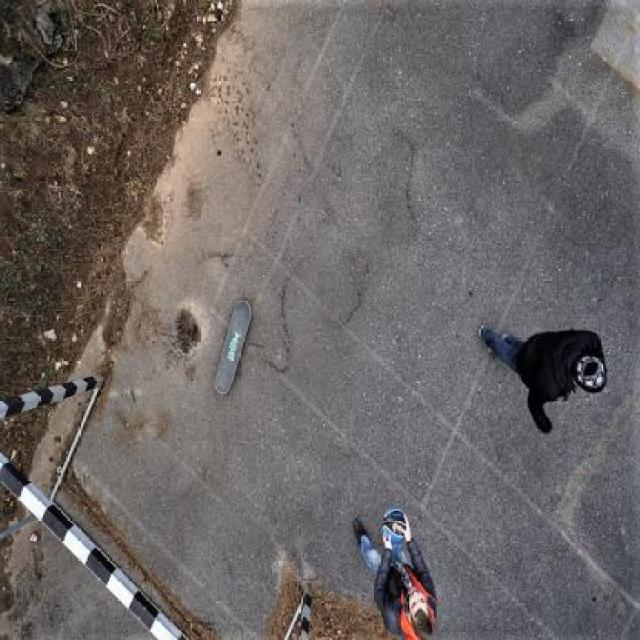Person: (470, 315, 612, 439), (336, 506, 452, 640)
